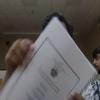notebook: (0, 15, 98, 99)
